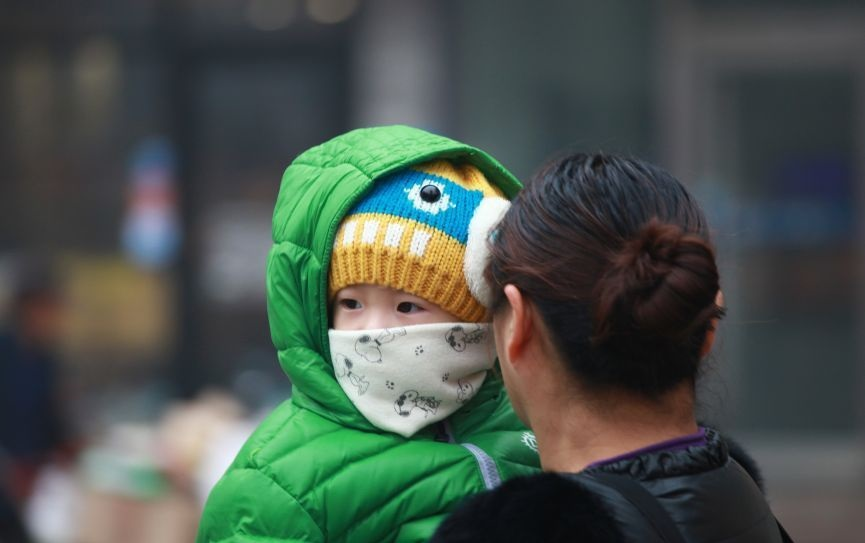face_mask: (331, 250, 475, 409)
